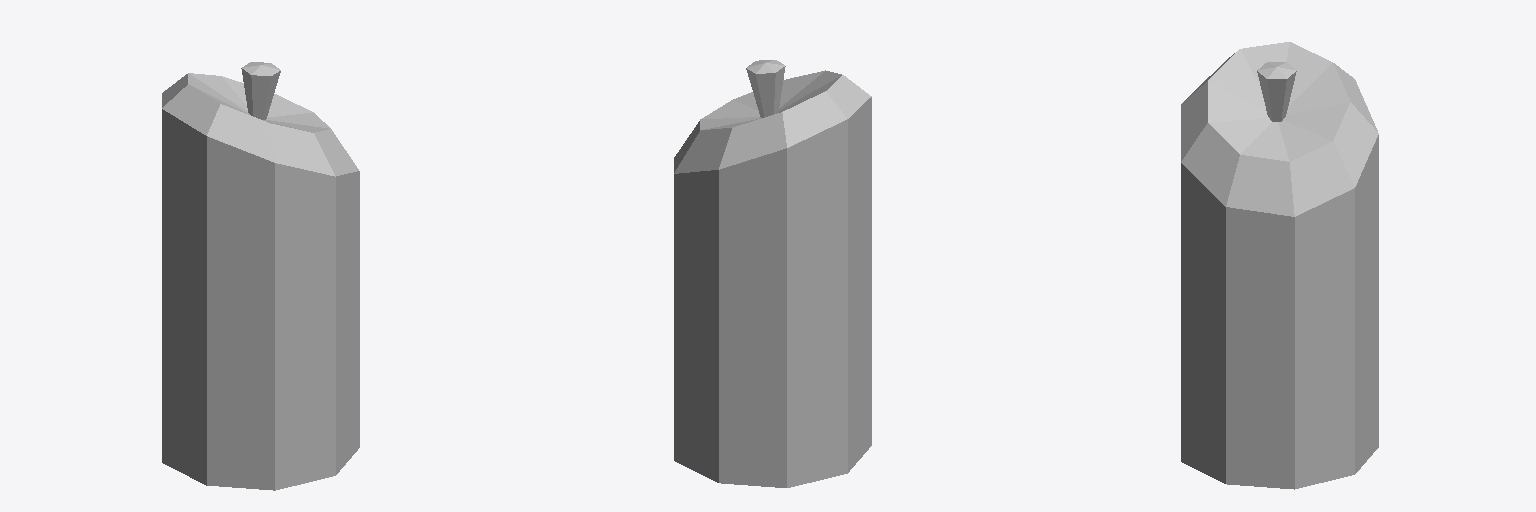
File: candle_melted.obj
The picture shows the model from 3 angles: view 1: azimuth 30°, elevation 25°; view 2: azimuth 150°, elevation 25°; view 3: azimuth 270°, elevation 25°; orthographic projection.
Visible parts, largest first — view 1: candle_melted_Cylinder.113; view 2: candle_melted_Cylinder.113; view 3: candle_melted_Cylinder.113.
Boxes of the visible parts, x1,y1,x2,y2 form: candle_melted_Cylinder.113: [162, 62, 359, 490]; candle_melted_Cylinder.113: [674, 60, 871, 487]; candle_melted_Cylinder.113: [1181, 42, 1378, 489].
Size of the model in its own units: 0.3009 by 0.6314 by 0.2964.